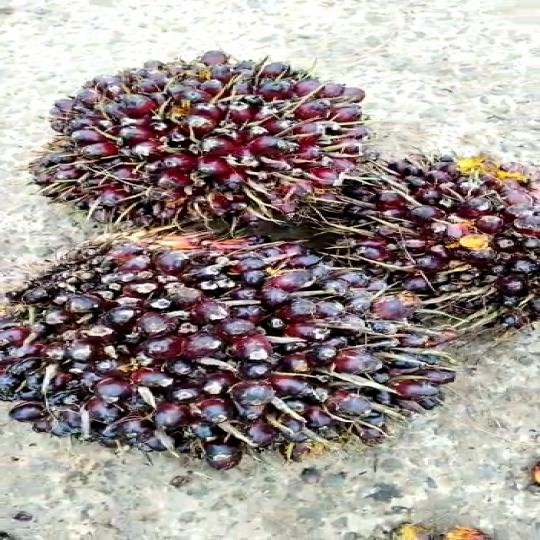kurang masak: (0, 206, 466, 491), (41, 50, 379, 241), (310, 139, 540, 326)
